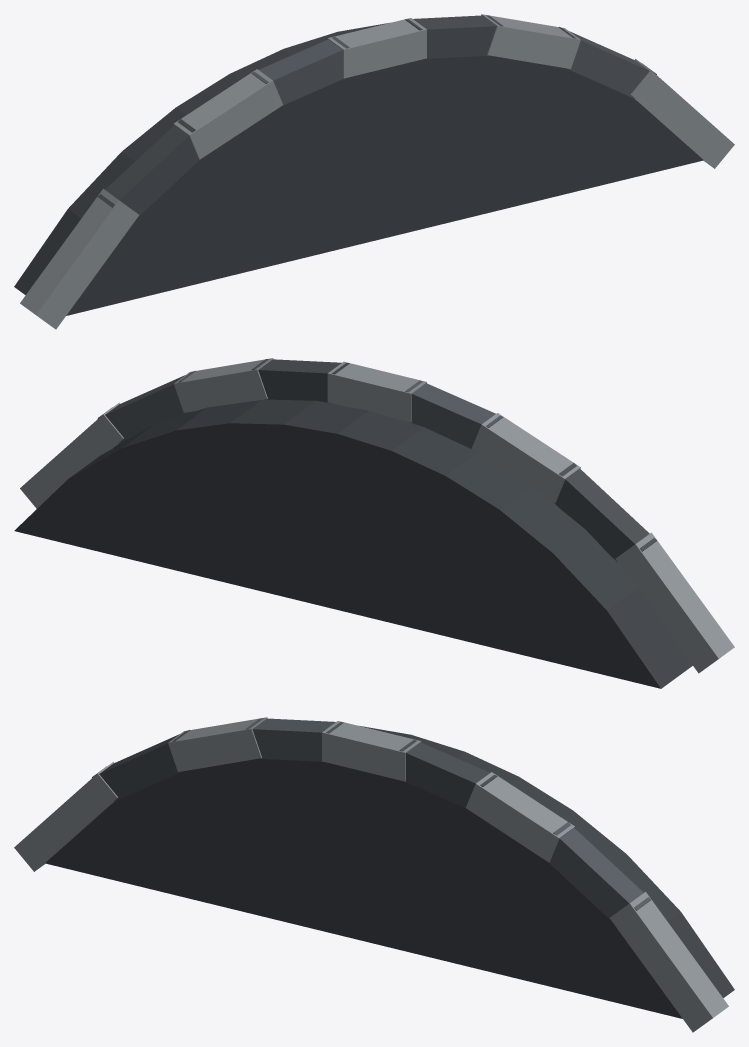
The model's file is mdvl_dungeon_vault_end_01.glb.
3 views of the same model, one above another, from view 1: azimuth 30°, elevation 25°; view 2: azimuth 150°, elevation 25°; view 3: azimuth 330°, elevation 25° (orthographic).
Parts seen in each view (by area): view 1: mdvl_dungeon_vault_end_01; view 2: mdvl_dungeon_vault_end_01; view 3: mdvl_dungeon_vault_end_01.
Part boxes in pixels (left/top/right/bottom): mdvl_dungeon_vault_end_01: left=14, top=14, right=734, bottom=329; mdvl_dungeon_vault_end_01: left=14, top=358, right=734, bottom=688; mdvl_dungeon_vault_end_01: left=14, top=717, right=734, bottom=1032.
Bounding box in the file's own units: 2.16 × 0.621 × 0.256.
1 material, 1 textured.
